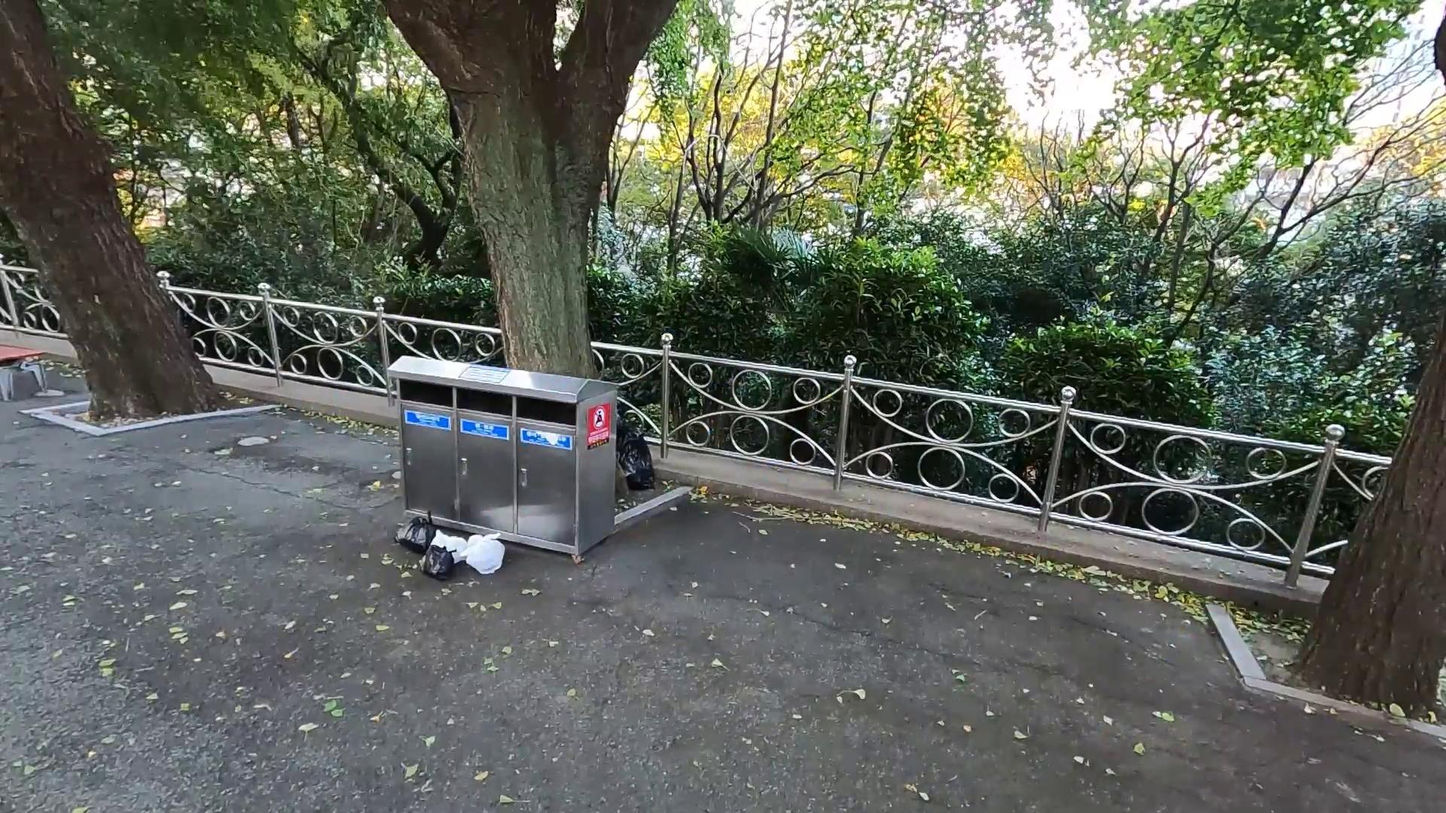trash: (615, 410, 664, 495), (460, 528, 510, 577), (422, 527, 474, 568), (412, 540, 461, 581), (399, 511, 444, 554)
